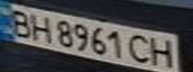1: (106, 28, 127, 60)
6: (87, 25, 109, 56)
8: (51, 17, 75, 48)
9: (69, 20, 90, 53)
B: (3, 6, 36, 38)
C: (127, 32, 154, 65)
H: (24, 11, 57, 44), (148, 35, 178, 70)
